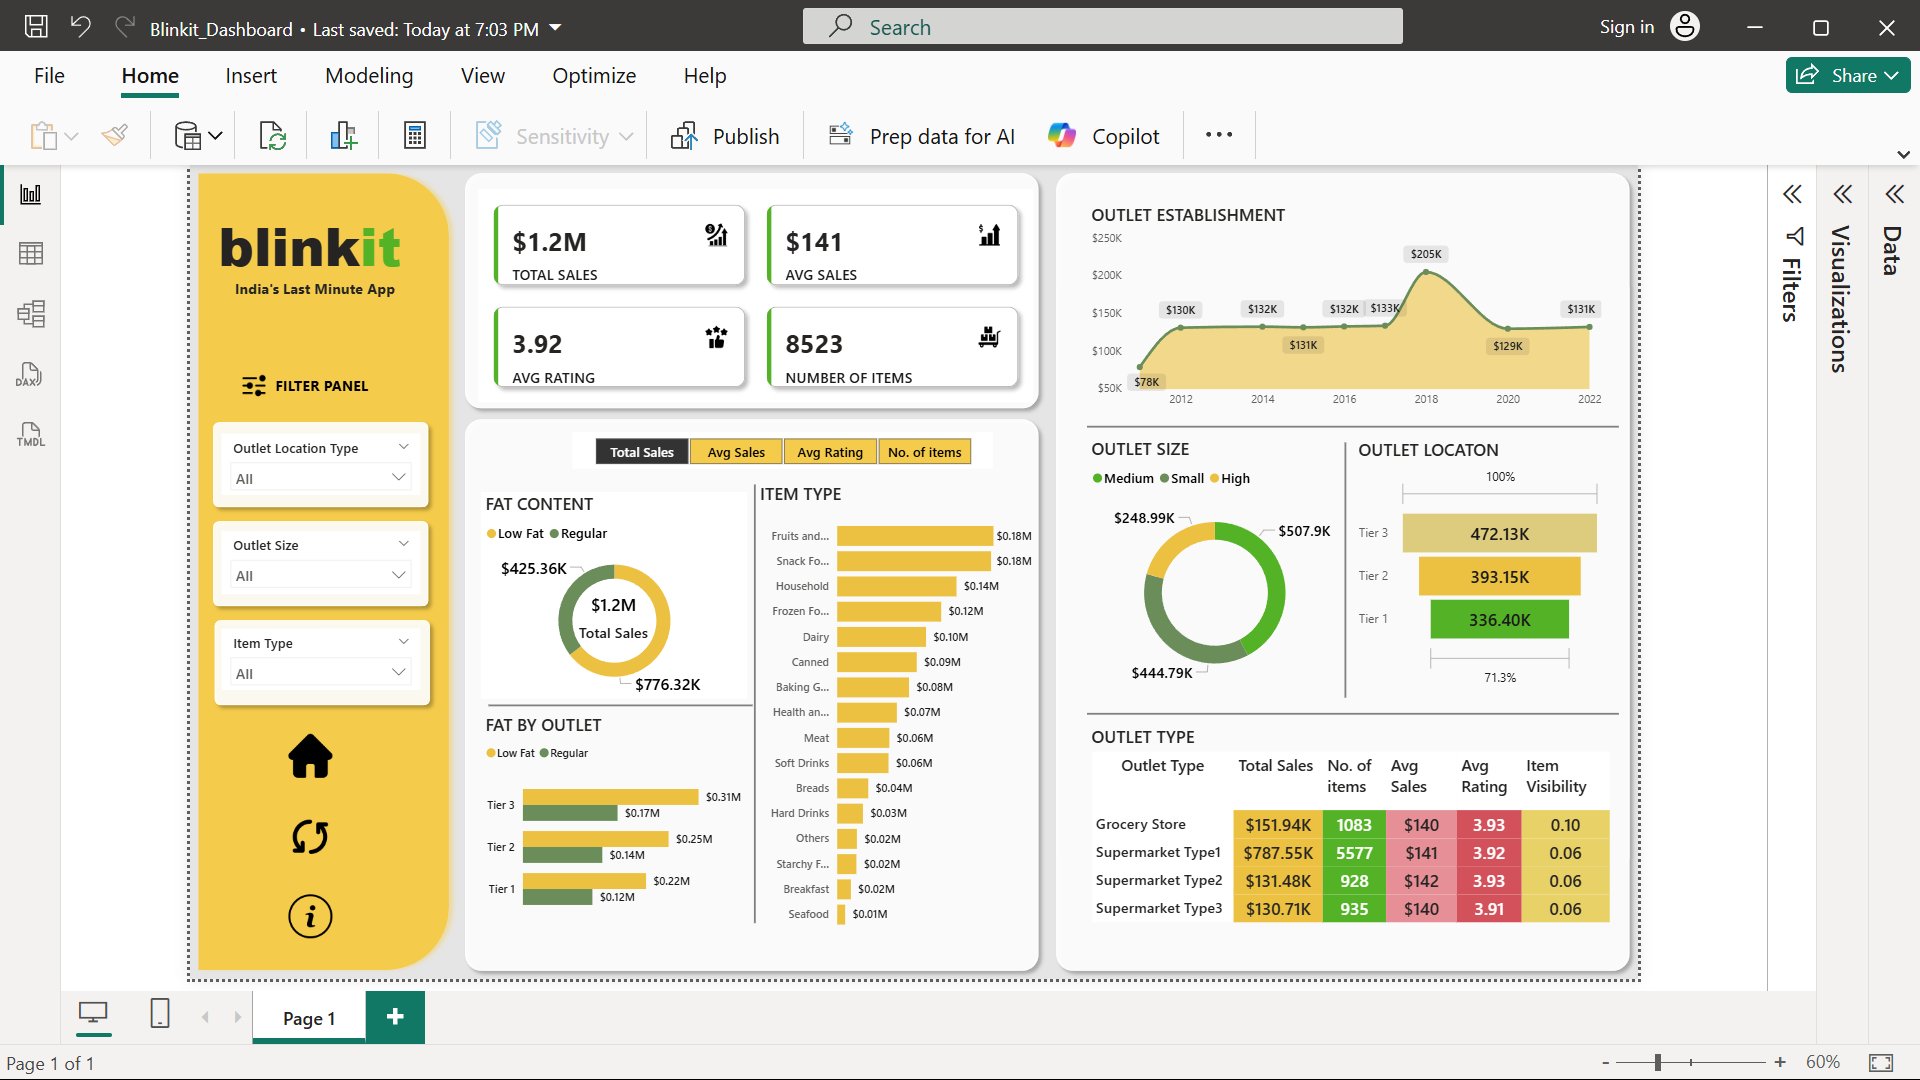

This screenshot's page, from the dashboard's own definition file:
{"tool":"powerbi","page":{"name":"Page 1","canvas":[1600,900],"ordinal":0},"visuals":[{"type":"shape","box":[296,272,652,628],"z":1000},{"type":"donutChart","title":"FAT CONTENT","fields":{"Y":["Key_measures.Total Sales"],"Category":["new_blinkit_dataset.Item Fat Content"]},"box":[322,361.1,294.3,228.6],"z":2000},{"type":"slicer","fields":{"Values":["Parameter.Parameter"]},"box":[423.5,295.4,464.5,40.7],"z":3000},{"type":"card","fields":{"Values":["Key_measures.Total Sales"]},"box":[417,450.5,103.3,95],"z":4000},{"type":"clusteredBarChart","title":"FAT BY OUTLET","fields":{"Y":["Key_measures.Total Sales"],"Category":["new_blinkit_dataset.Outlet Location Type"],"Series":["new_blinkit_dataset.Item Fat Content"]},"box":[322,606,294,238],"z":5000},{"type":"shape","box":[330,576,292,44],"z":6000},{"type":"shape","box":[605.3,353.8,38.3,485],"z":7000},{"type":"barChart","title":"ITEM TYPE","fields":{"Y":["Key_measures.Total Sales"],"Category":["new_blinkit_dataset.Item Type"]},"box":[626,350,310,506],"z":8000},{"type":"shape","box":[948,0,652,900],"z":9000},{"type":"lineChart","title":"OUTLET ESTABLISHMENT","fields":{"Category":["new_blinkit_dataset.Outlet Establishment Year"],"Y":["Key_measures.Total Sales"]},"box":[992,42.1,573.3,235],"z":10000},{"type":"shape","box":[992.1,272.8,588.1,34.7],"z":11000},{"type":"donutChart","title":"OUTLET SIZE","fields":{"Y":["Key_measures.Total Sales"],"Category":["new_blinkit_dataset.Outlet Size"]},"box":[992.1,299.9,282,289.5],"z":12000},{"type":"shape","box":[1256,306,44,282],"z":13000},{"type":"funnel","title":"OUTLET LOCATON","fields":{"Category":["new_blinkit_dataset.Outlet Location Type"],"Y":["Sum(new_blinkit_dataset.Sales)"]},"box":[1287,302.1,278.3,280],"z":14000},{"type":"shape","box":[992,588,588,36],"z":15000},{"type":"pivotTable","title":"OUTLET TYPE","fields":{"Rows":["new_blinkit_dataset.Outlet Type"],"Values":["Key_measures.Total Sales","Key_measures.No. of items","Key_measures.Avg Sales","Key_measures.Avg Rating","Avg(new_blinkit_dataset.Item Visibility)"]},"box":[992,618,588,238],"z":16000},{"type":"shape","box":[0,0,295.3,899.1],"z":17000},{"type":"textbox","box":[26,42,242,96],"z":18000},{"type":"textbox","box":[44,120,206,36],"z":19000},{"type":"textbox","box":[89.3,228,124,38],"z":21000},{"type":"image","box":[103,623.5,60.3,58.8],"z":22000},{"type":"image","box":[52,220,38,46],"z":23000},{"type":"image","box":[103,714,60.3,58.8],"z":24000},{"type":"image","box":[103,801.4,60.3,58.8],"z":25000},{"type":"shape","box":[296,0,652,278],"z":26000},{"type":"cardVisual","fields":{"Data":["Key_measures.Total Sales","Key_measures.Avg Sales","Key_measures.Avg Rating","Key_measures.No. of items"]},"box":[318,26,614,236],"z":27000},{"type":"shape","box":[16.9,275.3,256,112],"z":28000},{"type":"slicer","fields":{"Values":["new_blinkit_dataset.Outlet Location Type"]},"box":[34.9,297.3,220,68],"z":29000},{"type":"shape","box":[16.9,385.3,256,112],"z":30000},{"type":"shape","box":[18,494.7,256,112],"z":31000},{"type":"slicer","fields":{"Values":["new_blinkit_dataset.Item Type"]},"box":[34.9,512.7,220,68],"z":32000},{"type":"slicer","fields":{"Values":["new_blinkit_dataset.Outlet Size"]},"box":[34.9,405.3,220,70],"z":32500}]}

Visuals, with their boxes on the page's 1600x900 design canvas (x1, y1, x2, y2). These are canvas units, not pixel positions in the 1920x1080 screenshot, which may show the page scaled, cropped or inside an application window:
shape: left=296, top=272, right=948, bottom=900
"FAT CONTENT" donutChart: left=322, top=361, right=616, bottom=590
slicer - Parameter.Parameter: left=424, top=295, right=888, bottom=336
card - Key_measures.Total Sales: left=417, top=450, right=520, bottom=546
"FAT BY OUTLET" clusteredBarChart: left=322, top=606, right=616, bottom=844
shape: left=330, top=576, right=622, bottom=620
shape: left=605, top=354, right=644, bottom=839
"ITEM TYPE" barChart: left=626, top=350, right=936, bottom=856
shape: left=948, top=0, right=1600, bottom=900
"OUTLET ESTABLISHMENT" lineChart: left=992, top=42, right=1565, bottom=277
shape: left=992, top=273, right=1580, bottom=308
"OUTLET SIZE" donutChart: left=992, top=300, right=1274, bottom=589
shape: left=1256, top=306, right=1300, bottom=588
"OUTLET LOCATON" funnel: left=1287, top=302, right=1565, bottom=582
shape: left=992, top=588, right=1580, bottom=624
"OUTLET TYPE" pivotTable: left=992, top=618, right=1580, bottom=856
shape: left=0, top=0, right=295, bottom=899
textbox: left=26, top=42, right=268, bottom=138
textbox: left=44, top=120, right=250, bottom=156
textbox: left=89, top=228, right=213, bottom=266
image: left=103, top=624, right=163, bottom=682
image: left=52, top=220, right=90, bottom=266
image: left=103, top=714, right=163, bottom=773
image: left=103, top=801, right=163, bottom=860
shape: left=296, top=0, right=948, bottom=278
cardVisual - Key_measures.Total Sales x Key_measures.Avg Sales: left=318, top=26, right=932, bottom=262
shape: left=17, top=275, right=273, bottom=387
slicer - new_blinkit_dataset.Outlet Location Type: left=35, top=297, right=255, bottom=365
shape: left=17, top=385, right=273, bottom=497
shape: left=18, top=495, right=274, bottom=607
slicer - new_blinkit_dataset.Item Type: left=35, top=513, right=255, bottom=581
slicer - new_blinkit_dataset.Outlet Size: left=35, top=405, right=255, bottom=475
